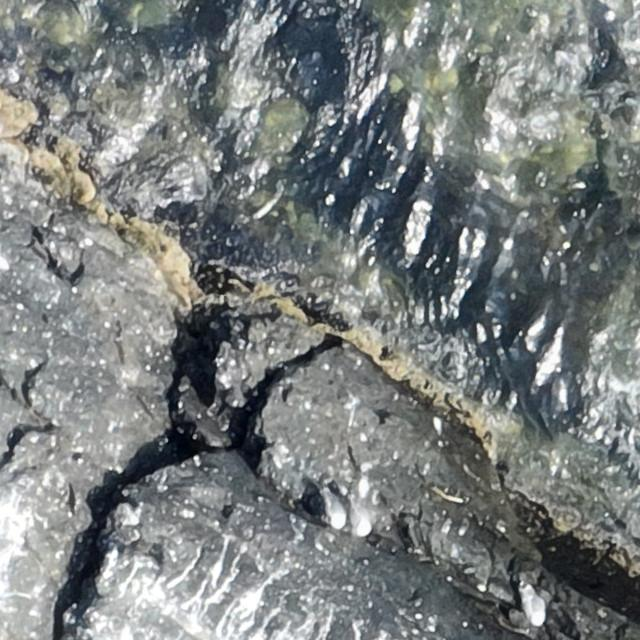umineko: (349, 509, 379, 538), (524, 592, 544, 626), (325, 492, 342, 526)
